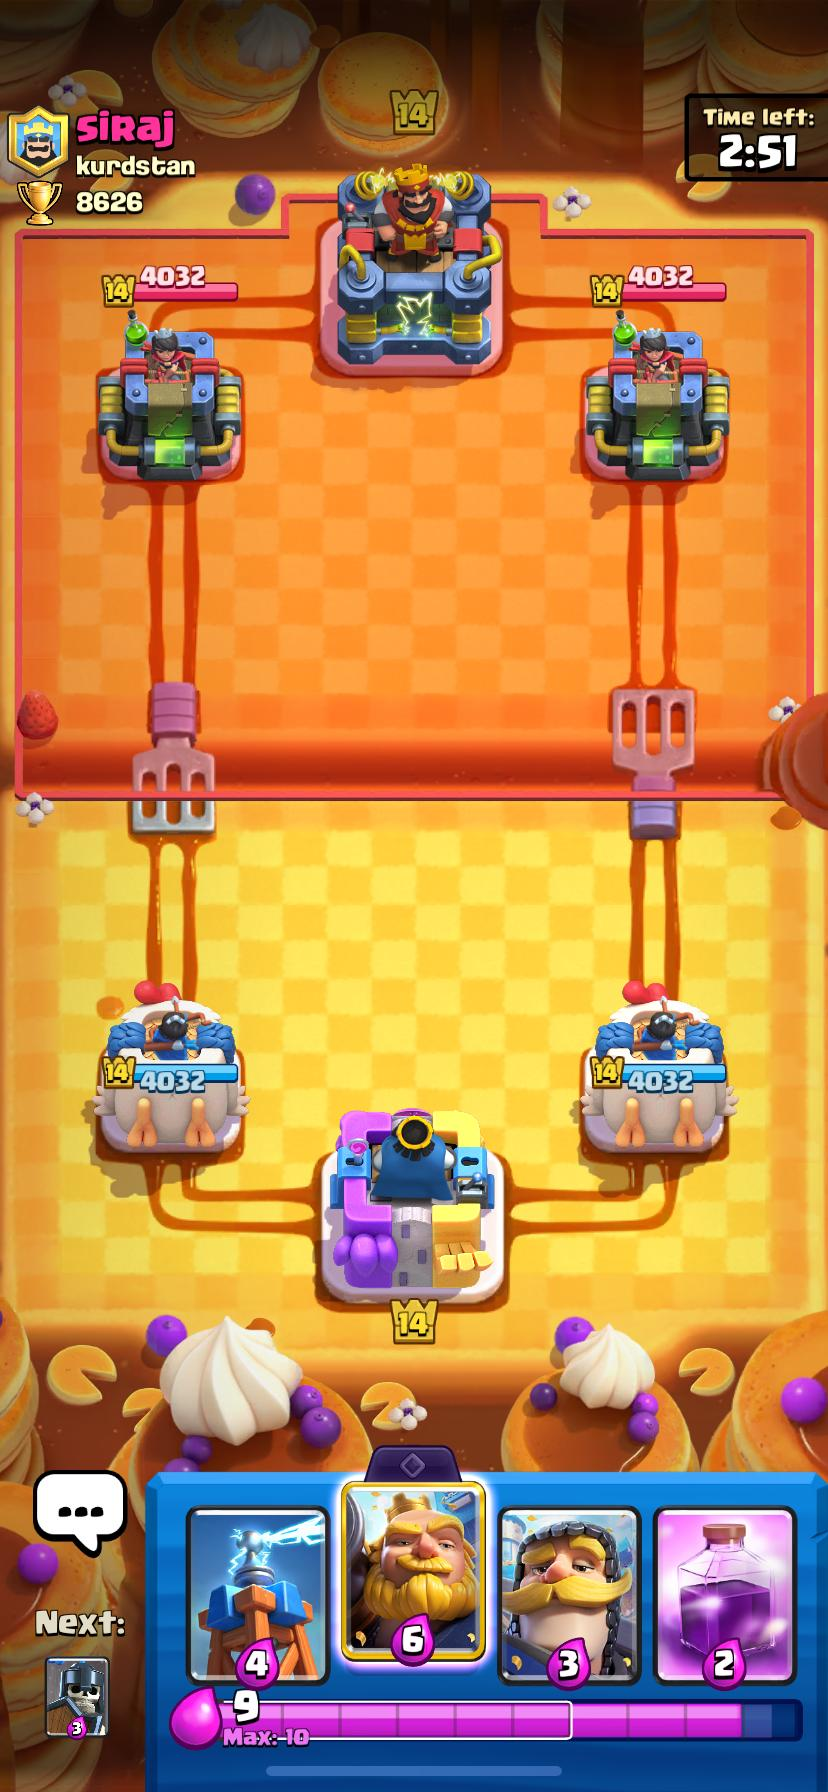EKingTower: (320, 165, 502, 376)
EnemyPrincessTower: (584, 311, 729, 481), (98, 311, 241, 480)
OwnKingTower: (321, 1109, 503, 1303)
OwnPrincessTower: (93, 983, 248, 1152), (580, 982, 735, 1151)
